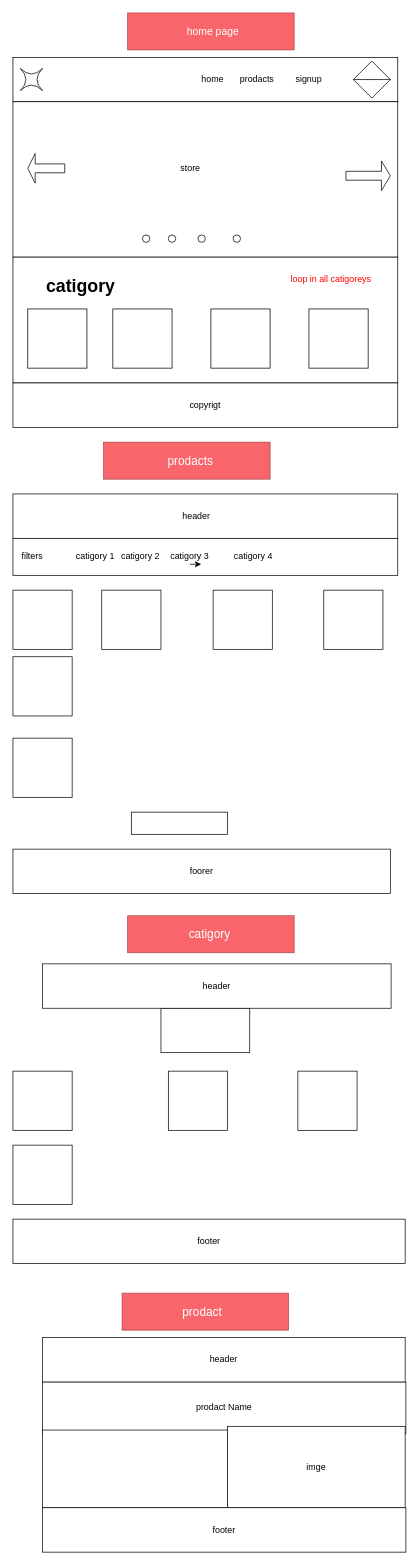
This 419x1565 diagram has some shape labels left out. Here are the shapes that lost their labels. From the top down, the box of each, then its label:
(131, 811, 228, 834): page < 1 2 3 >
(160, 1008, 250, 1053): catigory Name
(42, 1429, 228, 1508): information
